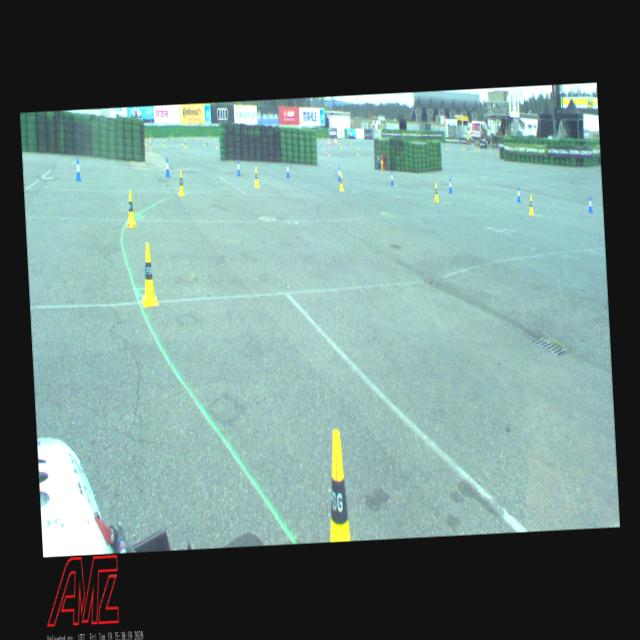blue_cone: (74, 158, 82, 181), (165, 158, 170, 177), (588, 196, 593, 212), (389, 170, 394, 186), (516, 186, 520, 202), (286, 162, 290, 178), (448, 178, 452, 193), (237, 160, 240, 176), (338, 166, 340, 182), (168, 134, 170, 140), (347, 141, 348, 145), (200, 138, 201, 142), (152, 136, 153, 140)
yellow_cone: (324, 430, 350, 542), (138, 242, 158, 307), (125, 190, 137, 228), (177, 170, 185, 196), (253, 167, 260, 187), (528, 196, 534, 216), (339, 172, 344, 190), (434, 183, 438, 202), (203, 140, 206, 146), (144, 138, 146, 146), (182, 138, 184, 146), (328, 150, 330, 157), (150, 142, 152, 149), (357, 150, 359, 156), (163, 140, 165, 146), (149, 135, 151, 140), (214, 136, 216, 141), (186, 140, 187, 148), (216, 142, 217, 148), (322, 144, 323, 150), (172, 134, 173, 138), (185, 134, 186, 138), (340, 144, 341, 148), (358, 144, 359, 148), (208, 136, 208, 140)
